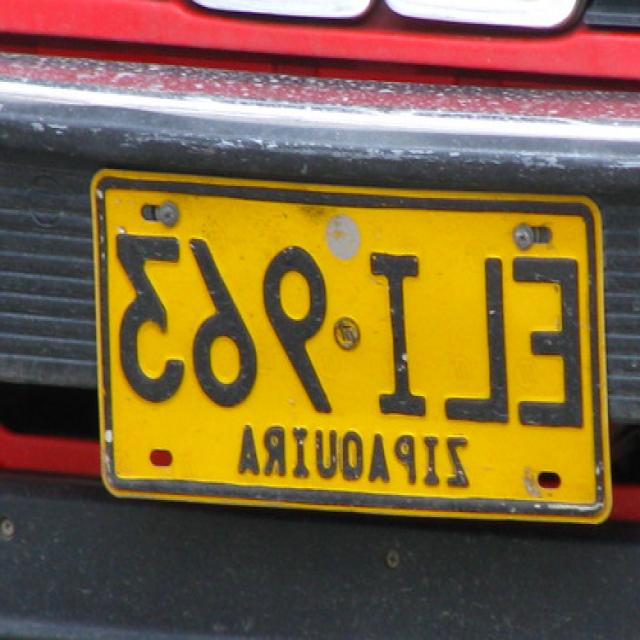placas: (108, 219, 588, 433)
